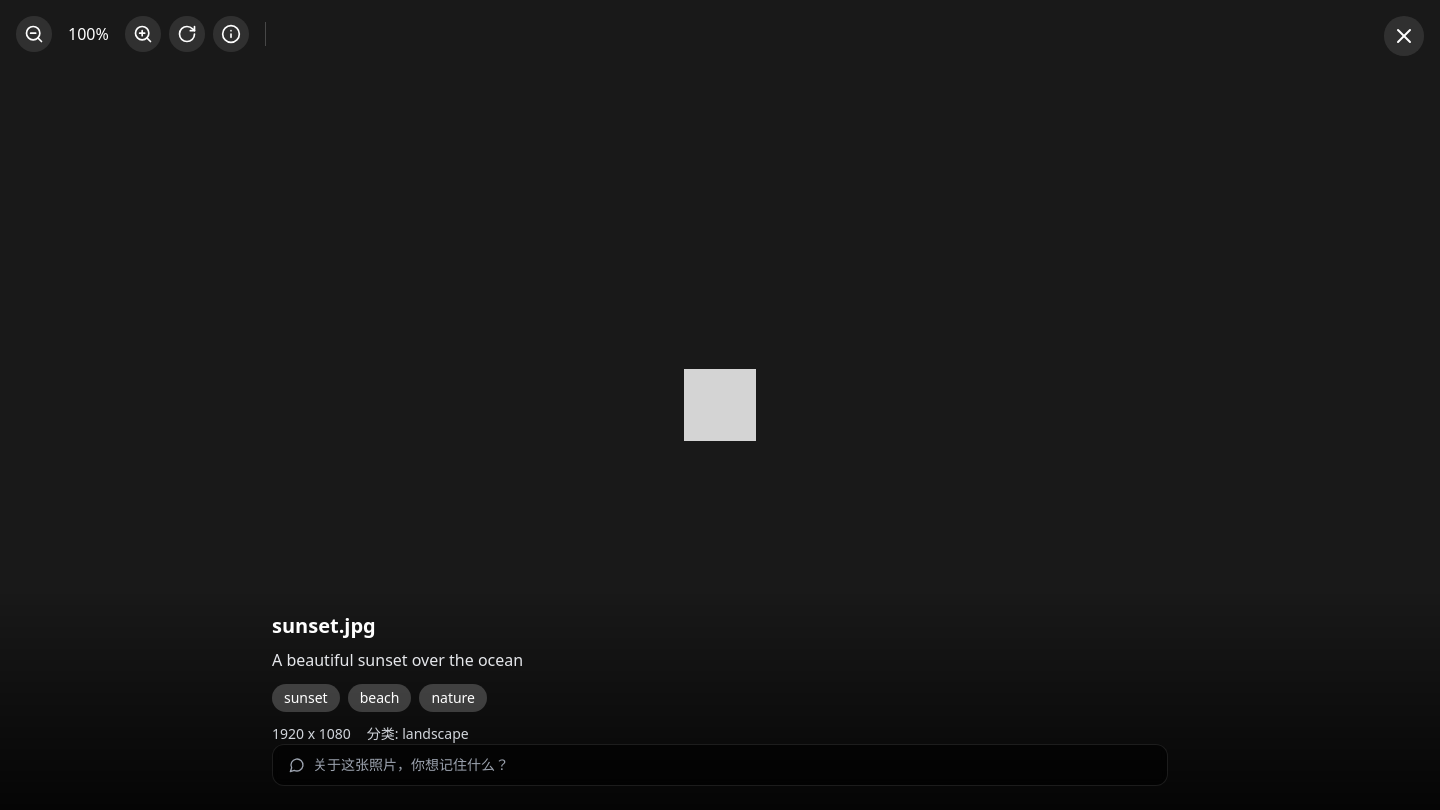
Test: ImageViewer › 重置按钮应该恢复 100% 缩放
This screenshot has width=1440, height=810.
What coordinates should you click on to do the following:
click the button named "放大"
I would click on:
 (143, 34)
Its box is [125,16,161,52].
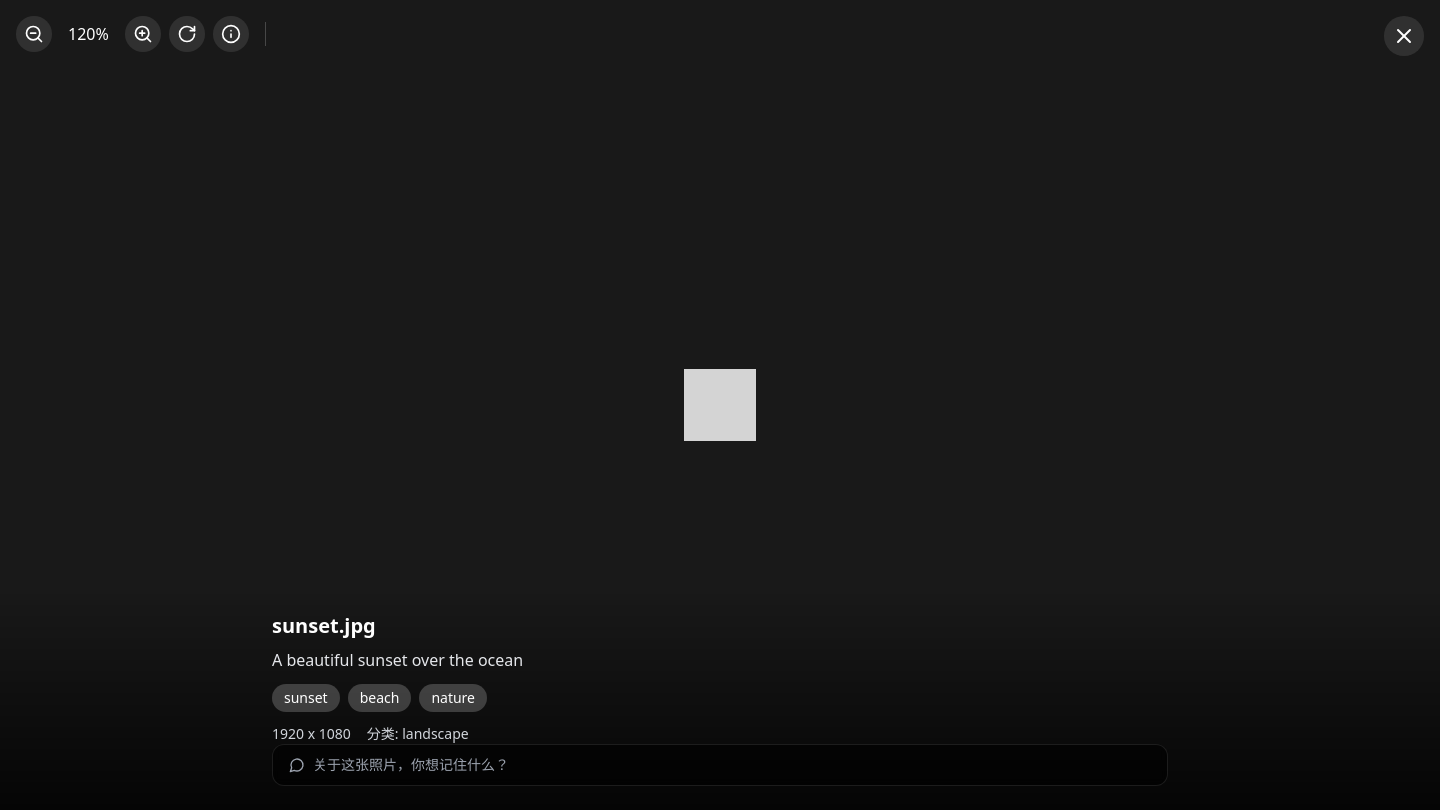
What coordinates should you click on to do the following:
click the button named "放大"
I would click on:
 (143, 34)
Its box is [125,16,161,52].
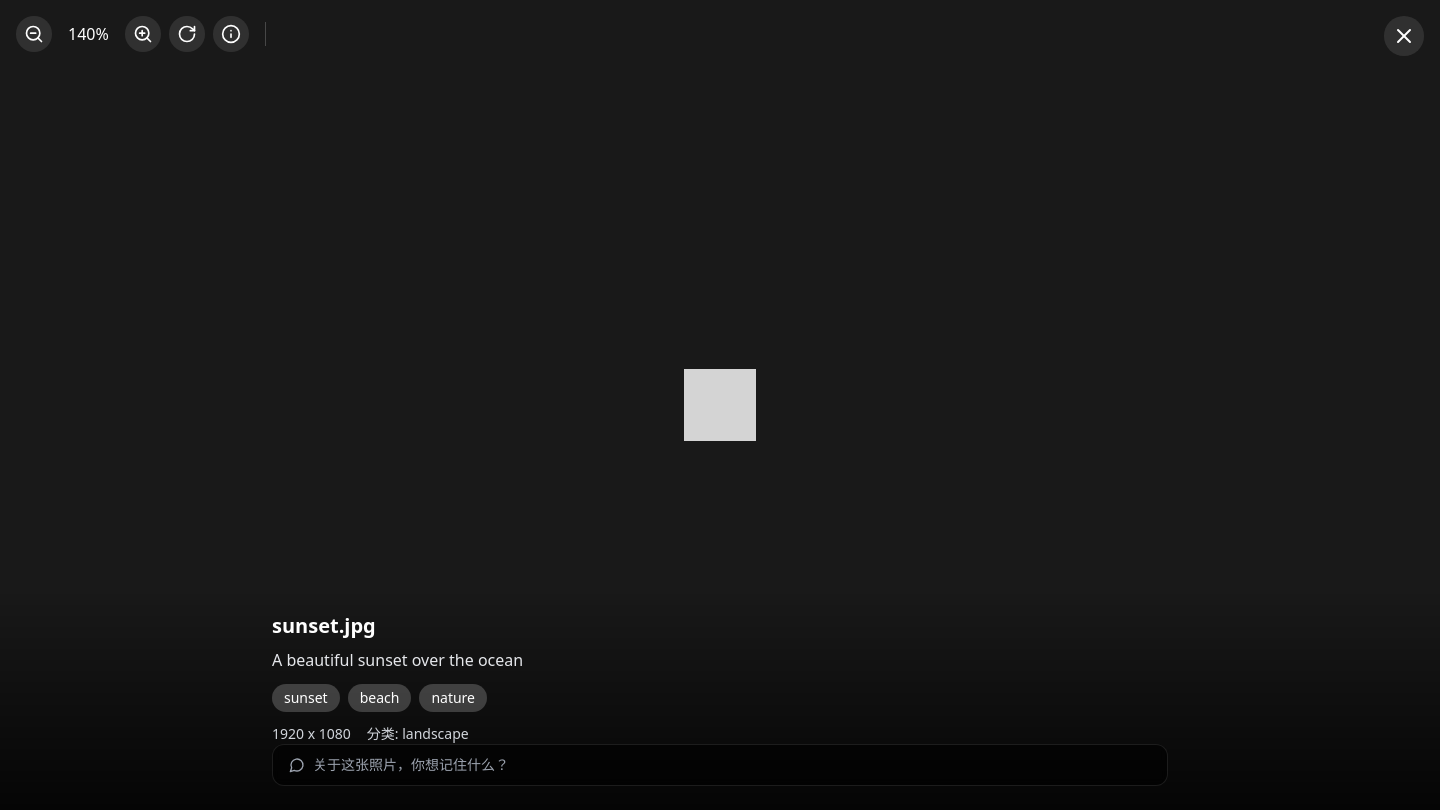
Now the text "140%" is shown, box [68,23,109,45]
What coordinates should you click on to do the following:
click the button named "重置缩放"
I would click on:
 (187, 34)
Its box is [169,16,205,52].
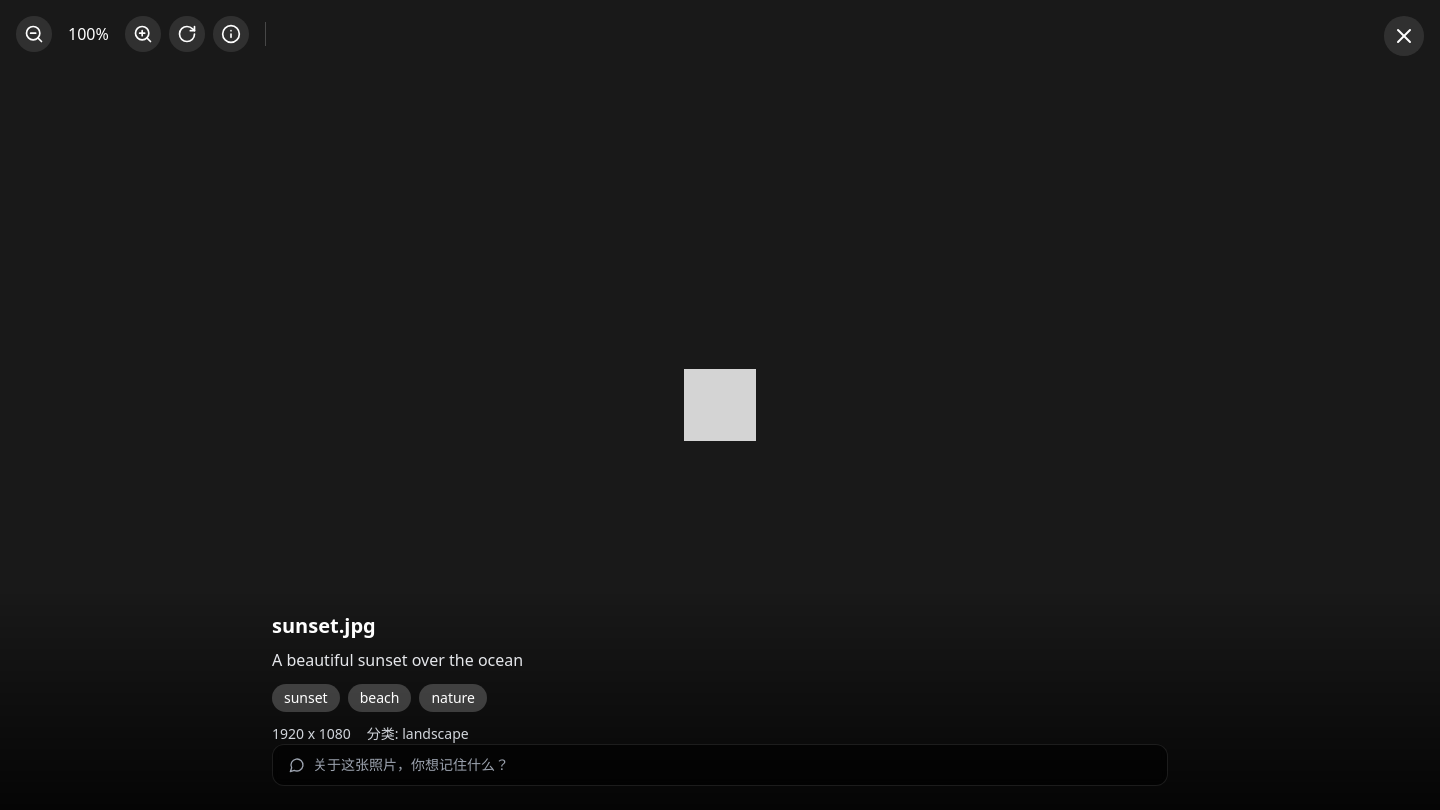
Now the text "100%" is shown, box [68,23,109,45]
